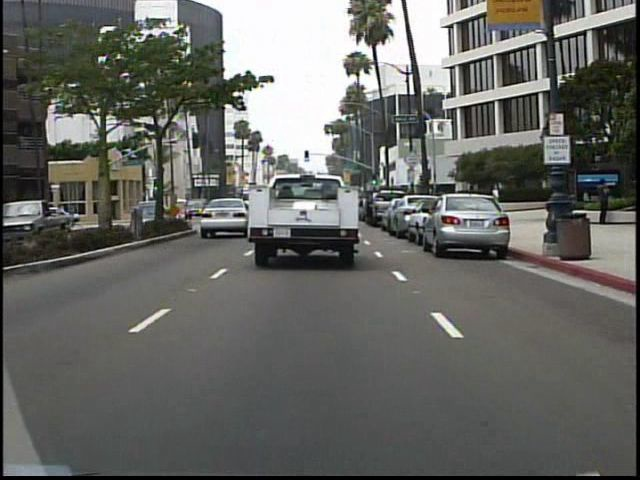person: (594, 176, 614, 229)
